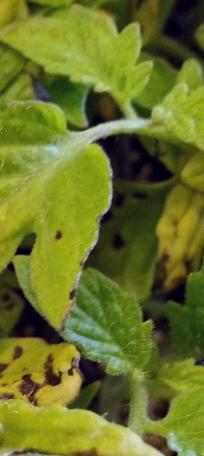Tomato leaf: (0, 14, 173, 99), (21, 16, 94, 97)
Tomato leaf bacterial spot: (0, 98, 132, 326), (38, 96, 140, 313), (0, 330, 102, 411), (49, 316, 124, 393)
